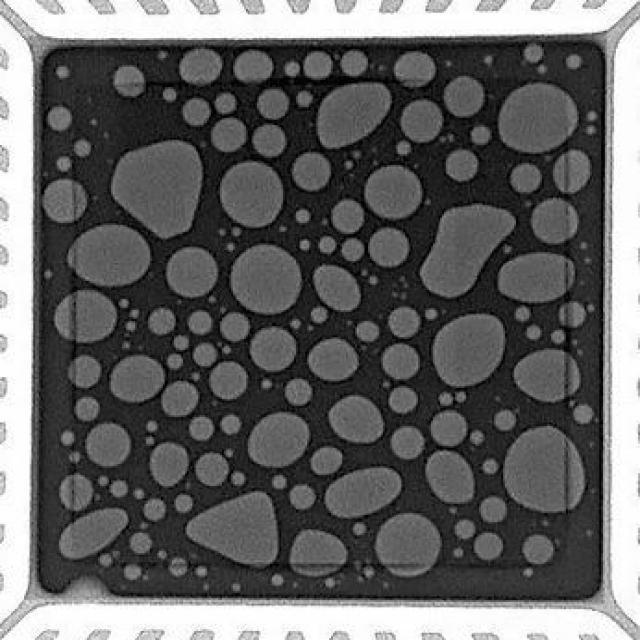chip: (37, 41, 604, 599)
void: (420, 203, 514, 298), (112, 140, 202, 238), (187, 491, 277, 566), (504, 426, 581, 512), (499, 82, 578, 154), (432, 315, 504, 387), (70, 225, 149, 286), (318, 83, 389, 148), (231, 246, 298, 314), (220, 162, 282, 228), (374, 513, 439, 575), (499, 252, 575, 304), (327, 468, 399, 517), (55, 289, 117, 343), (513, 349, 576, 402), (61, 509, 127, 559), (248, 412, 309, 466), (311, 265, 359, 323), (365, 167, 418, 219), (329, 395, 384, 444), (425, 451, 473, 504), (111, 355, 164, 402), (169, 248, 218, 298), (290, 530, 346, 573), (308, 339, 359, 382), (251, 326, 296, 372), (531, 200, 578, 244), (42, 178, 86, 223), (87, 424, 130, 466), (150, 442, 188, 486), (179, 49, 222, 87), (552, 150, 589, 193), (369, 228, 408, 267), (401, 100, 439, 140), (381, 342, 419, 382), (394, 51, 435, 86), (209, 361, 246, 399), (444, 78, 479, 116), (293, 153, 329, 189), (161, 381, 197, 416), (233, 51, 272, 83), (60, 474, 93, 511), (211, 117, 246, 151), (252, 123, 286, 157), (68, 355, 101, 389), (391, 426, 424, 459), (332, 199, 364, 233), (446, 150, 479, 182), (196, 453, 228, 486), (113, 66, 144, 97), (257, 88, 288, 119), (388, 308, 418, 338), (522, 535, 553, 564), (431, 416, 464, 443), (510, 164, 540, 193), (220, 312, 249, 342), (310, 447, 341, 475), (560, 301, 589, 328), (390, 385, 417, 414), (148, 307, 175, 336), (305, 51, 332, 79), (474, 533, 502, 560), (479, 496, 506, 523), (183, 98, 209, 126), (285, 378, 311, 406), (340, 50, 367, 76), (290, 484, 314, 510), (47, 106, 71, 131), (193, 342, 217, 367), (188, 310, 212, 335), (191, 416, 214, 441), (341, 238, 364, 261), (143, 498, 165, 522), (75, 397, 98, 419), (355, 321, 378, 342), (214, 94, 236, 114), (130, 532, 152, 552), (454, 519, 475, 539), (220, 414, 241, 433), (525, 43, 541, 63), (320, 237, 336, 253), (297, 90, 312, 106), (123, 565, 140, 578), (567, 54, 580, 68)
